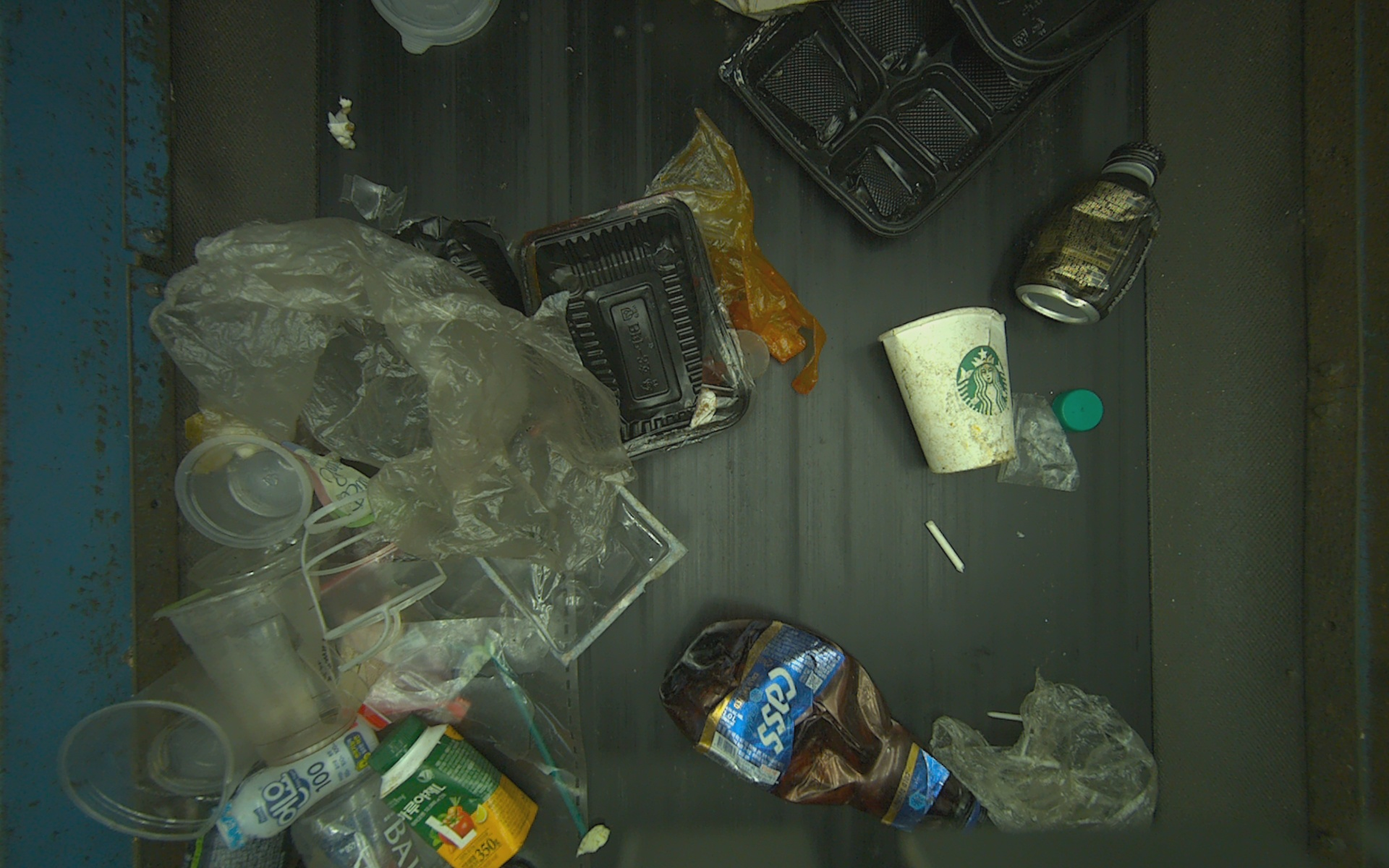PET: (660, 620, 987, 836)
PET-C: (163, 570, 358, 773), (58, 651, 262, 841), (187, 512, 340, 592)
PP-B: (719, 0, 1162, 239), (505, 191, 752, 462)
PS-W: (214, 714, 379, 852)
